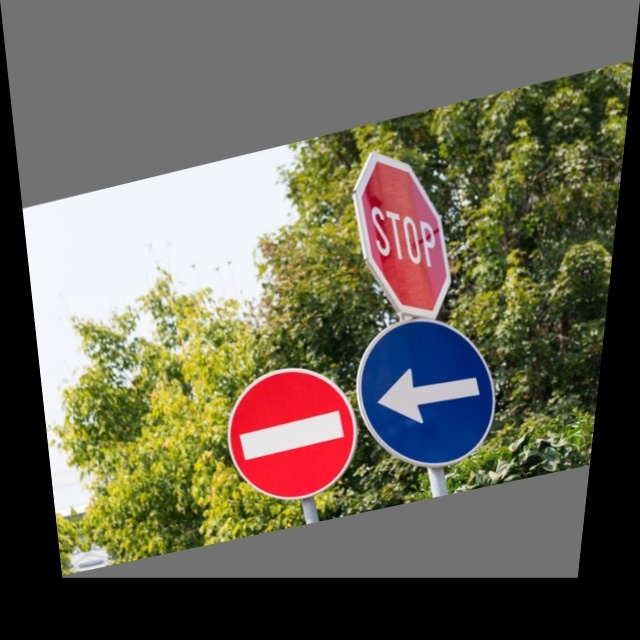Compulsory_Turn_Left: (342, 299, 517, 481)
